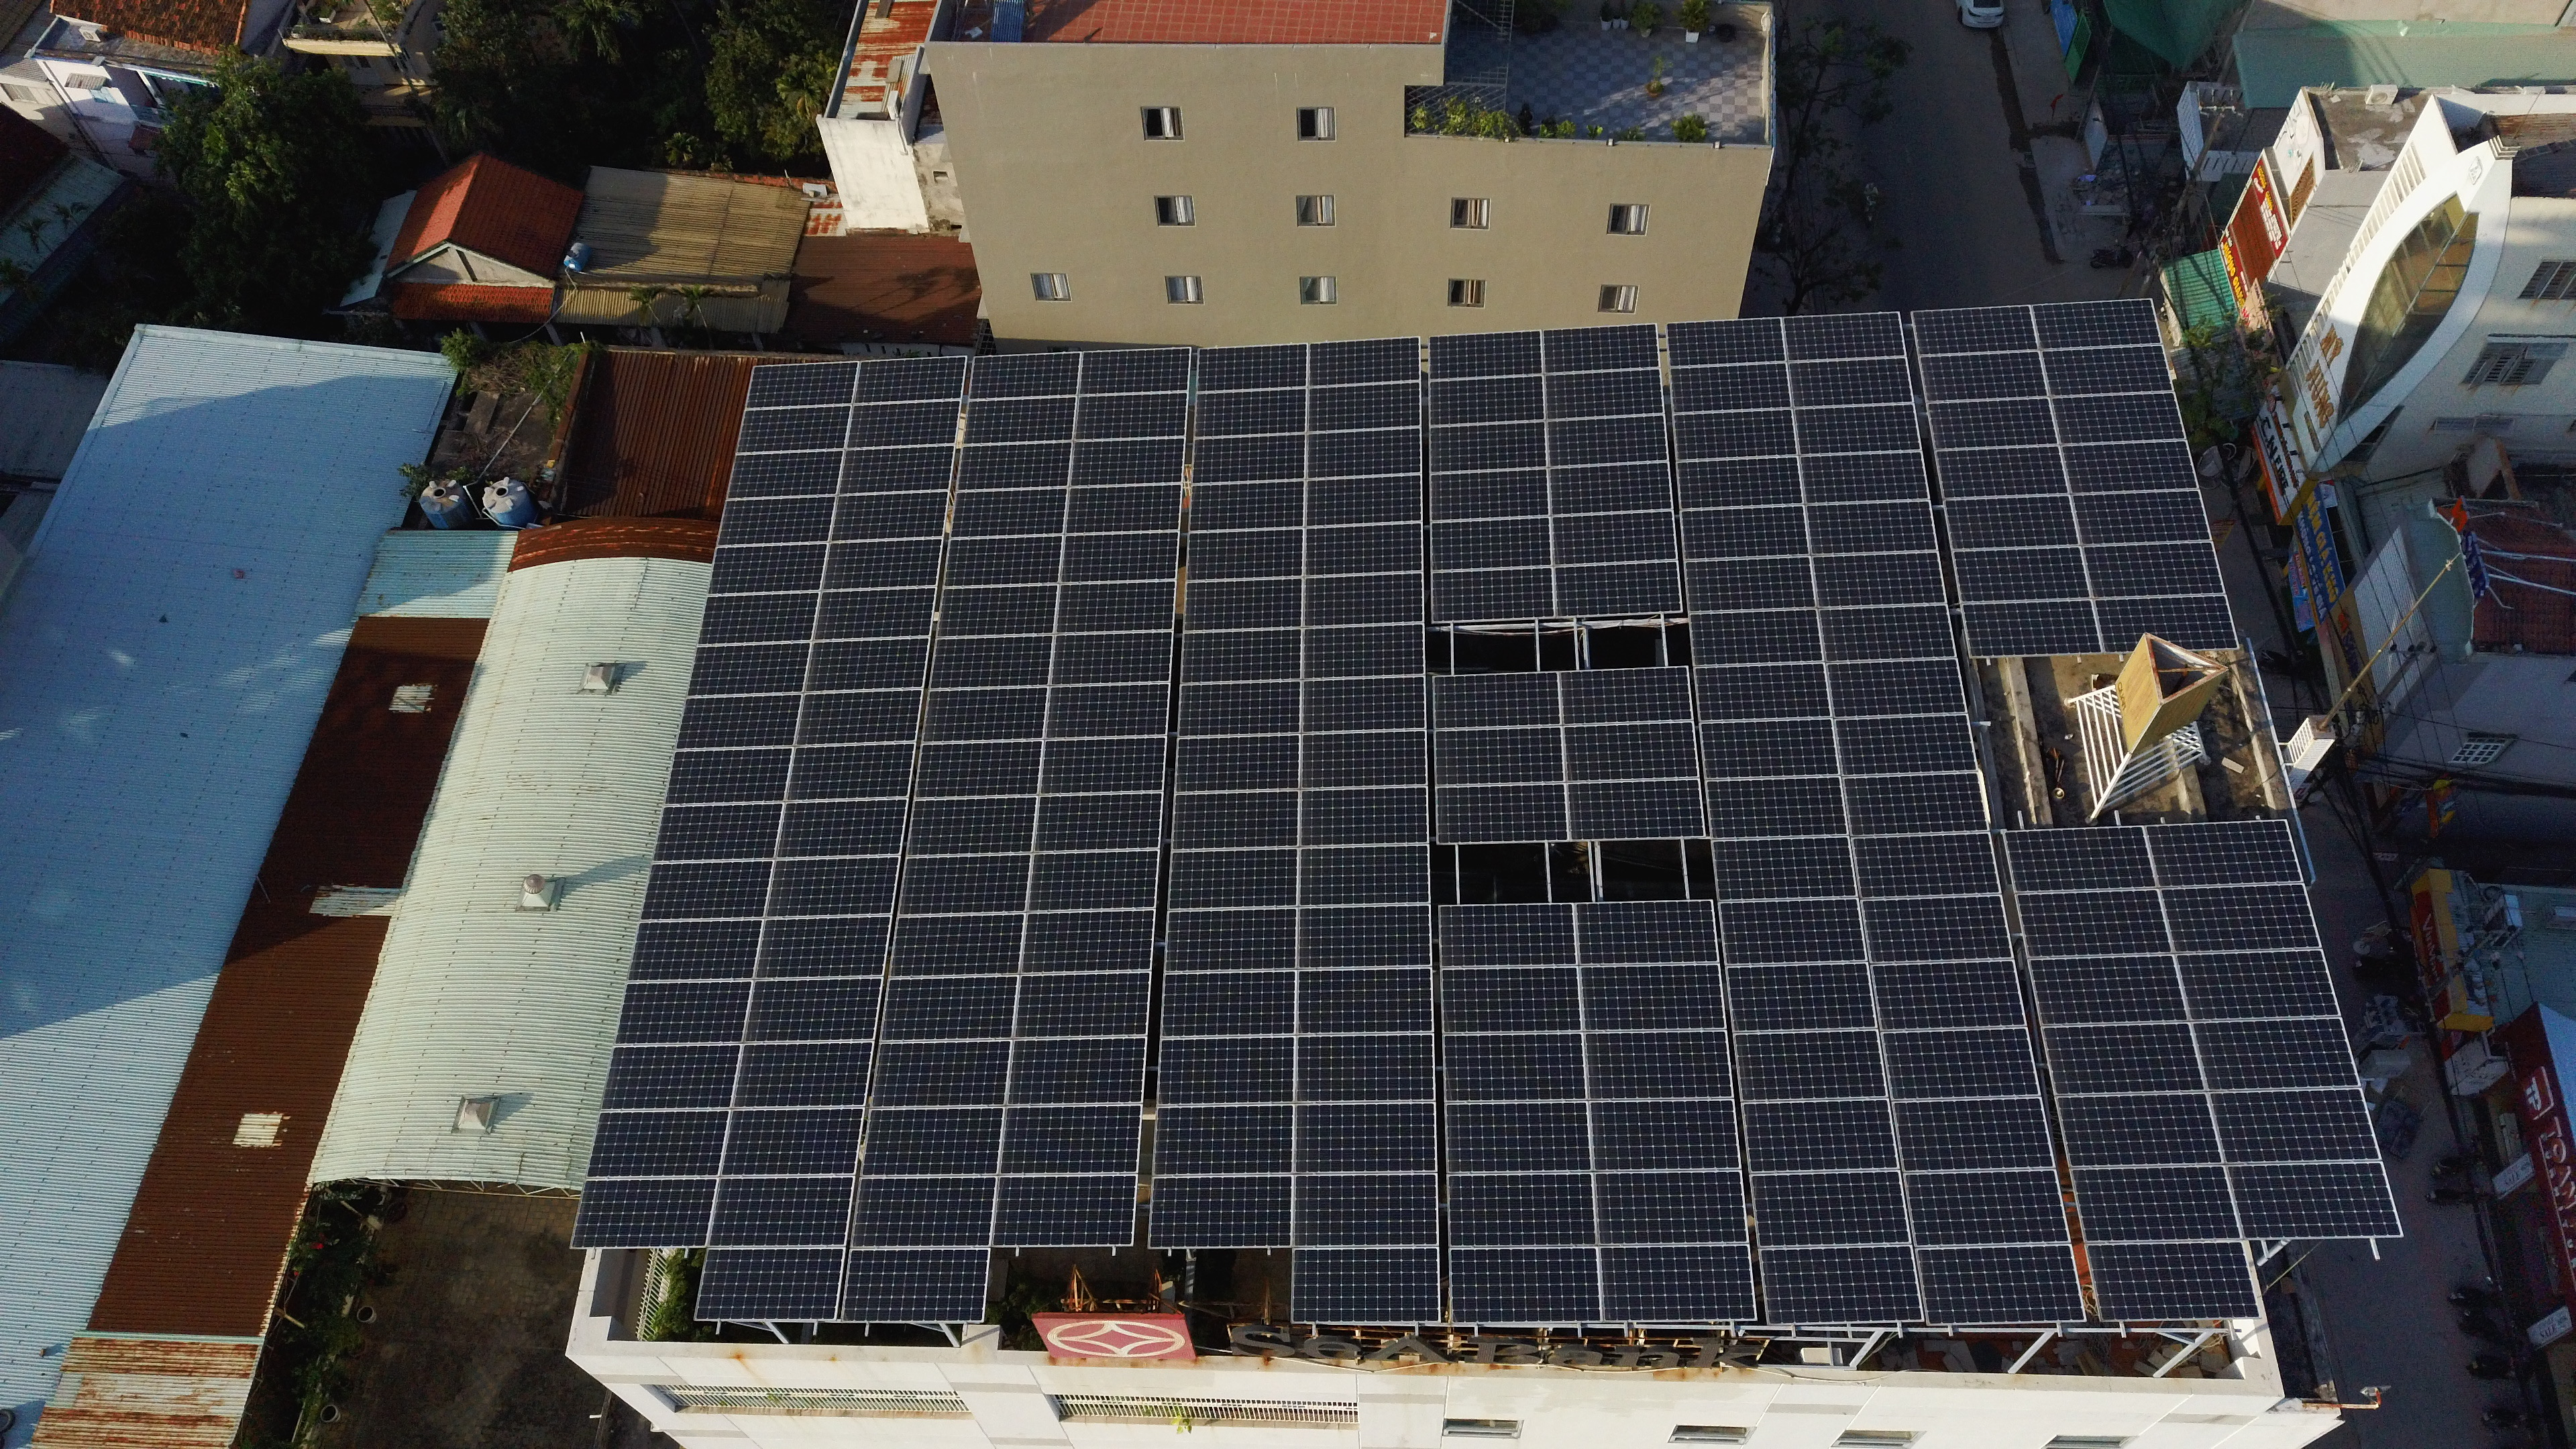solar: (2084, 1240, 2261, 1322), (1914, 1244, 2086, 1323), (1748, 1169, 1916, 1249), (2070, 1164, 2242, 1242), (2206, 1088, 2381, 1164), (2226, 1161, 2401, 1237), (1757, 1244, 1925, 1322), (1877, 1026, 2043, 1102), (1888, 1097, 2054, 1173), (1904, 1169, 2070, 1246), (1596, 1242, 1753, 1322), (2192, 1016, 2357, 1092), (2043, 1021, 2206, 1097), (2059, 1093, 2224, 1168), (2157, 881, 2321, 955), (2026, 954, 2189, 1028), (1453, 1247, 1605, 1325), (2174, 950, 2337, 1023), (1582, 1028, 1736, 1104), (1585, 1099, 1739, 1175), (1592, 1168, 1746, 1244), (1741, 1099, 1898, 1173), (1449, 1169, 1596, 1249), (1732, 1026, 1890, 1099), (1868, 959, 2026, 1031), (1293, 1244, 1438, 1322), (1295, 1173, 1437, 1253), (2015, 888, 2174, 959), (1148, 1173, 1295, 1249), (1445, 1099, 1592, 1175), (1580, 961, 1729, 1035), (709, 1175, 856, 1249), (695, 1247, 842, 1322), (849, 1177, 996, 1251), (844, 1247, 991, 1322), (2144, 819, 2304, 886), (1858, 893, 2012, 962), (862, 1106, 1007, 1178), (993, 1175, 1136, 1247), (570, 1178, 717, 1249), (1155, 1035, 1297, 1108), (1297, 1028, 1435, 1102), (1849, 833, 2001, 901), (1729, 962, 1875, 1031), (872, 1039, 1014, 1109), (1440, 964, 1582, 1035), (1445, 1030, 1587, 1100), (587, 1111, 732, 1180), (718, 1109, 863, 1178), (1297, 1099, 1435, 1171), (1155, 1108, 1295, 1178), (998, 1106, 1141, 1175), (1702, 773, 1849, 840), (1713, 835, 1859, 902), (1716, 897, 1863, 964), (1838, 770, 1989, 835), (1008, 1035, 1146, 1106), (2075, 538, 2224, 603), (1821, 655, 1971, 718), (1829, 717, 1980, 780), (2005, 826, 2155, 890), (2095, 589, 2240, 655), (732, 1040, 872, 1108), (1576, 899, 1716, 966), (596, 1044, 740, 1109), (1014, 971, 1152, 1039), (616, 980, 757, 1046), (743, 977, 883, 1042), (754, 915, 892, 980), (881, 975, 1019, 1040), (1300, 899, 1431, 968), (1300, 966, 1431, 1035), (1560, 718, 1698, 784), (1568, 775, 1706, 840), (2066, 487, 2212, 548), (1019, 913, 1152, 980), (1691, 658, 1831, 722), (1700, 715, 1840, 778), (911, 738, 1046, 803), (1159, 971, 1293, 1037), (892, 913, 1024, 978), (1299, 839, 1431, 904), (766, 855, 902, 918), (625, 920, 764, 982), (639, 858, 773, 922), (899, 855, 1033, 918), (1162, 908, 1297, 971), (1440, 904, 1578, 966), (1815, 603, 1957, 663), (904, 796, 1037, 860), (1028, 849, 1161, 913), (1688, 609, 1824, 671), (1168, 847, 1299, 911), (1950, 545, 2091, 603), (1962, 598, 2104, 656), (1560, 667, 1693, 729), (1810, 550, 1944, 610), (1171, 787, 1300, 849), (1943, 494, 2079, 552), (1035, 791, 1162, 853), (1300, 786, 1428, 847), (1435, 732, 1566, 793), (1805, 497, 1939, 556), (1433, 671, 1562, 731), (1438, 789, 1568, 849), (1923, 395, 2059, 451), (1934, 448, 2070, 504), (1300, 731, 1424, 793), (2059, 439, 2199, 494), (796, 688, 924, 748), (1039, 736, 1166, 796), (777, 800, 908, 858), (1672, 407, 1801, 465), (1675, 453, 1805, 511), (1681, 504, 1810, 563), (1684, 556, 1813, 614), (678, 692, 805, 750), (667, 747, 794, 805), (653, 803, 780, 862), (786, 741, 913, 800), (1546, 460, 1674, 518), (1555, 561, 1681, 619), (2049, 395, 2187, 448), (1304, 672, 1424, 732), (1801, 449, 1928, 506), (2042, 341, 2173, 396), (1178, 683, 1300, 741), (1550, 508, 1675, 564), (1182, 625, 1302, 683), (1304, 570, 1424, 628), (1302, 621, 1422, 679), (931, 633, 1054, 690), (924, 688, 1047, 745), (1428, 467, 1552, 524), (1431, 515, 1555, 571), (803, 637, 931, 692), (1175, 736, 1302, 791), (1794, 402, 1921, 456), (1185, 577, 1304, 635), (936, 582, 1058, 639), (1921, 350, 2051, 403), (1047, 683, 1168, 740), (697, 593, 821, 648), (688, 640, 812, 695), (1430, 568, 1553, 623), (1189, 478, 1307, 534), (1785, 311, 1907, 366), (943, 534, 1065, 589), (1062, 483, 1184, 538), (1053, 580, 1175, 635), (1670, 359, 1792, 414), (1790, 356, 1913, 410), (828, 490, 948, 545), (821, 536, 941, 591), (1051, 632, 1171, 686), (2033, 297, 2160, 349), (1185, 529, 1304, 584), (1430, 423, 1548, 478), (1913, 304, 2038, 356), (1060, 529, 1177, 584), (812, 589, 936, 640), (1307, 522, 1422, 577), (839, 442, 957, 495), (950, 485, 1067, 538), (1306, 472, 1421, 525), (847, 400, 966, 451), (1548, 416, 1670, 465), (1307, 336, 1424, 387), (1430, 329, 1546, 380), (1543, 324, 1660, 375), (1670, 318, 1787, 370), (1070, 441, 1187, 492), (1306, 380, 1422, 432), (1304, 428, 1421, 479), (1428, 377, 1545, 428), (1546, 370, 1663, 421), (725, 449, 846, 499), (717, 495, 835, 545), (709, 545, 832, 593), (738, 403, 855, 453), (851, 356, 968, 405), (962, 398, 1079, 448), (955, 442, 1072, 492), (743, 363, 860, 410), (968, 352, 1085, 400), (1074, 393, 1191, 441), (1194, 387, 1311, 435), (1191, 435, 1307, 483), (1076, 347, 1191, 395), (1196, 345, 1311, 393)
